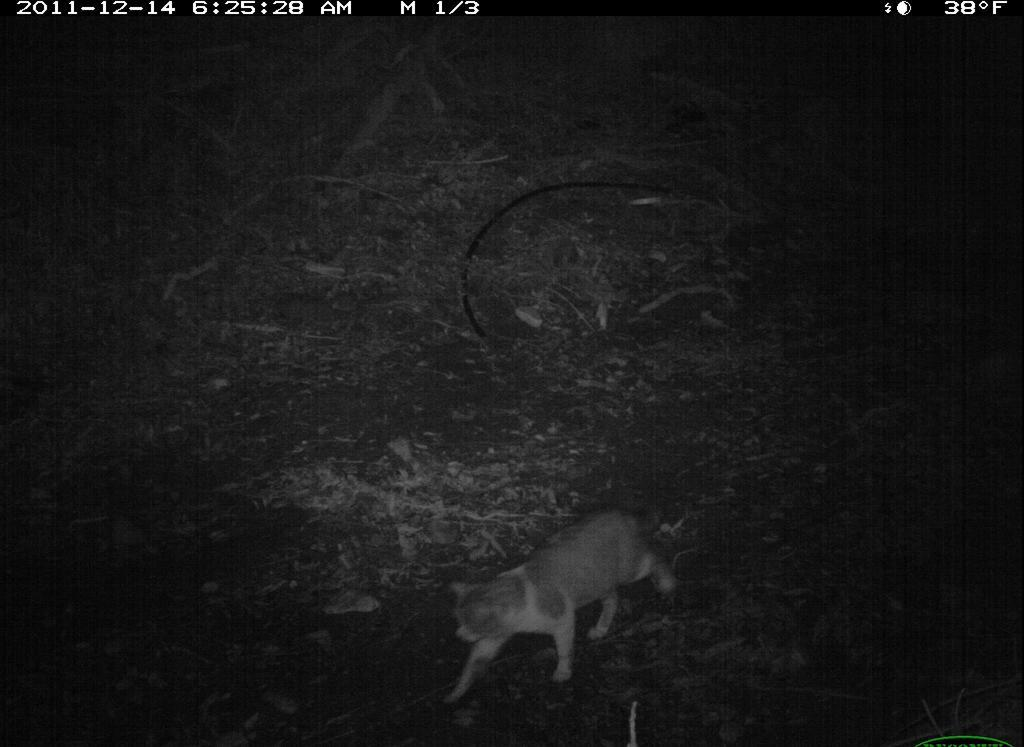cat: (432, 497, 683, 710)
